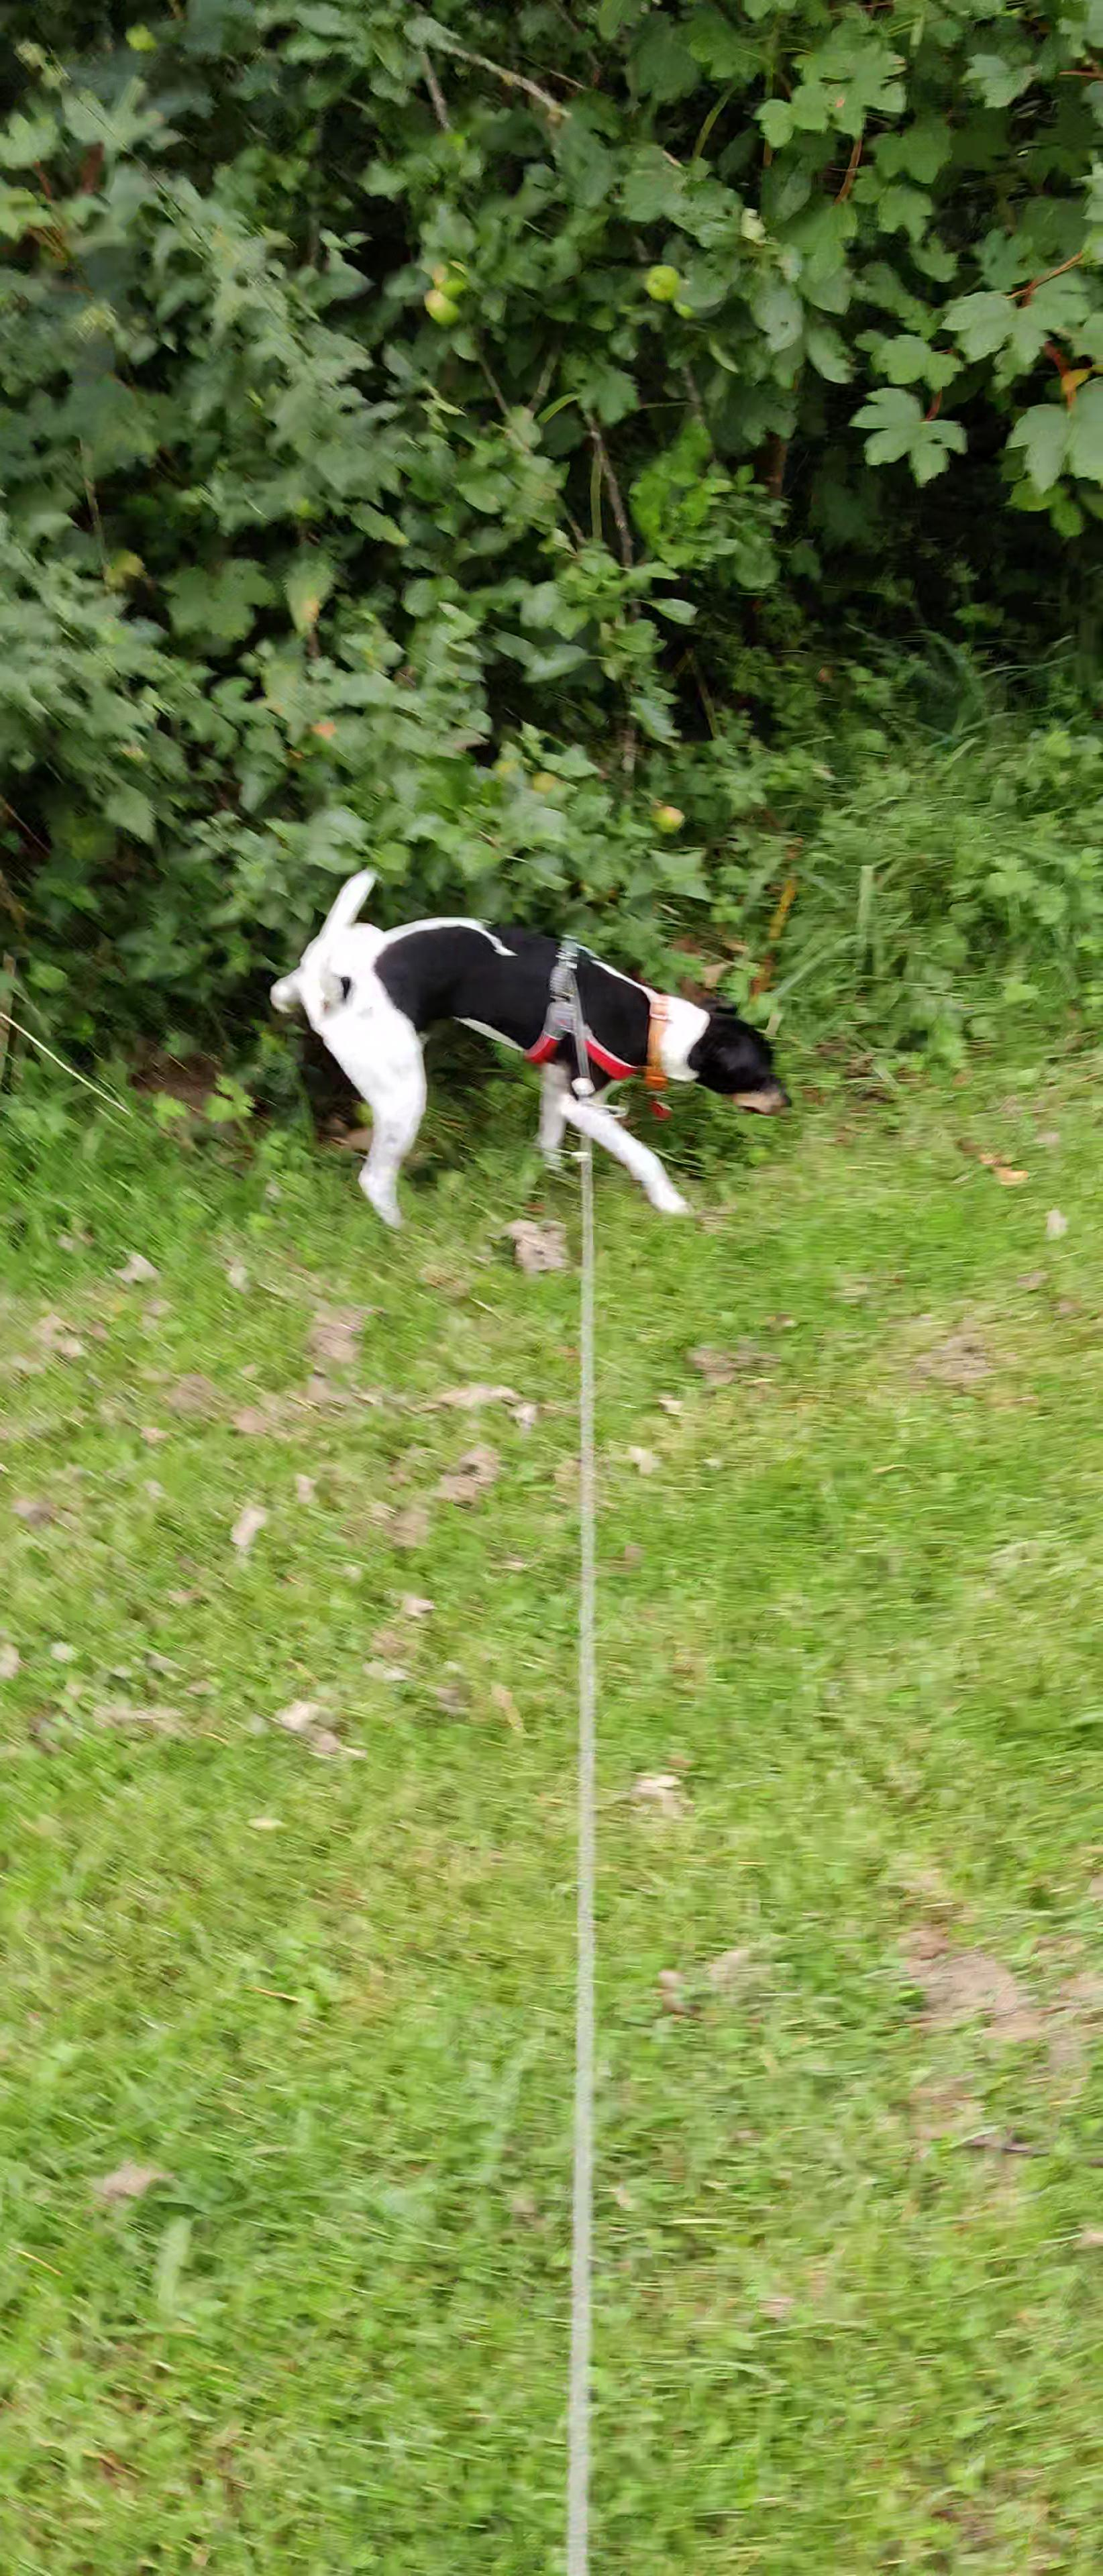Dog: (263, 862, 802, 1230)
